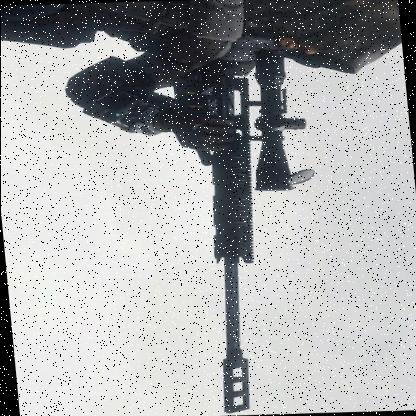rifle: (156, 42, 334, 414)
